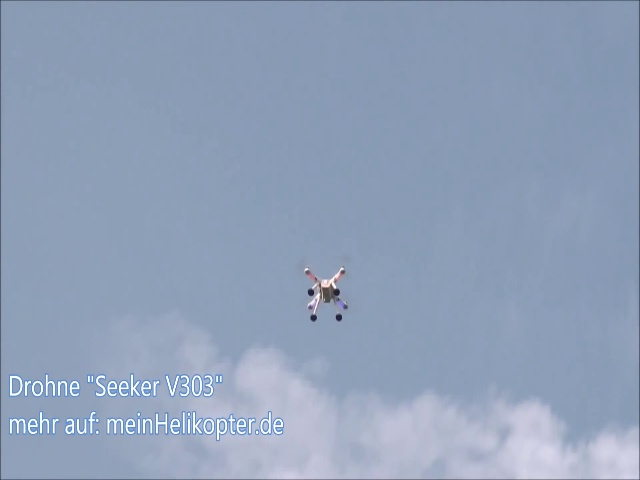drone: (303, 259, 352, 323)
